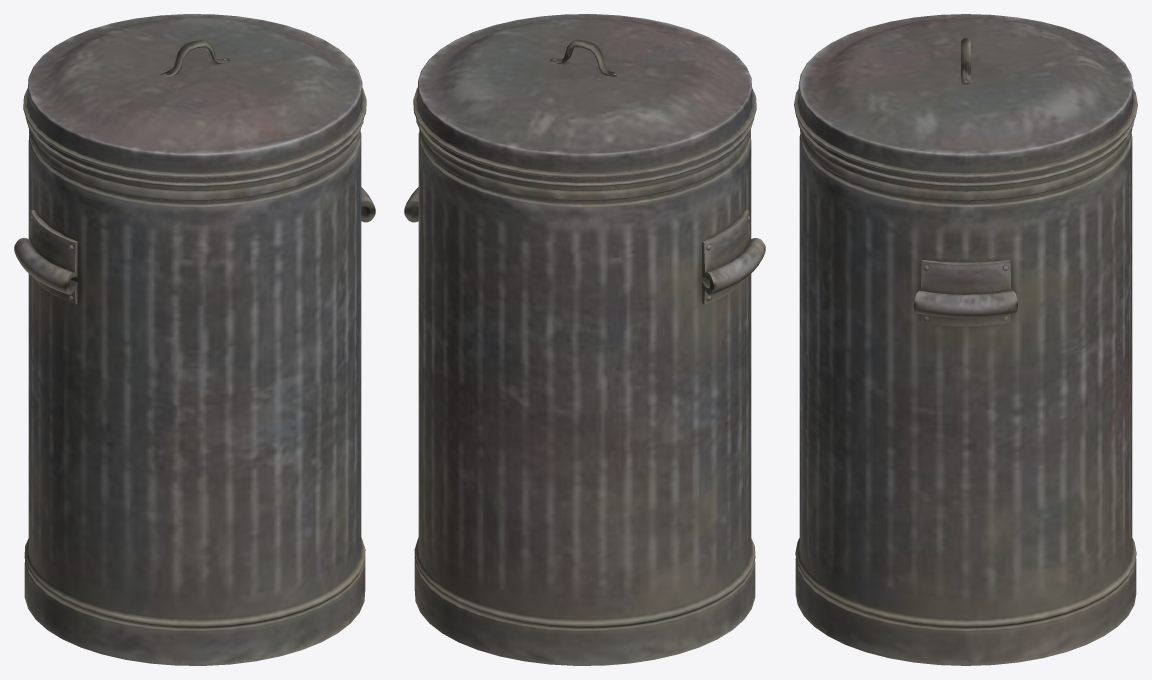
The model's file is trash_can.glb.
The picture shows the model from 3 angles, left to right: view 1: azimuth 30°, elevation 25°; view 2: azimuth 150°, elevation 25°; view 3: azimuth 270°, elevation 25°; orthographic projection.
Visible parts, largest first — view 1: metal_trash_can, metal_trash_can_lid; view 2: metal_trash_can, metal_trash_can_lid; view 3: metal_trash_can, metal_trash_can_lid.
Boxes of the visible parts, box(x1,y1,x2,y2) form: metal_trash_can: box(14, 117, 375, 665); metal_trash_can_lid: box(23, 14, 366, 178); metal_trash_can: box(404, 118, 765, 665); metal_trash_can_lid: box(413, 14, 756, 178); metal_trash_can: box(795, 119, 1136, 665); metal_trash_can_lid: box(794, 14, 1137, 178).
Size of the model in its own units: 0.6134 by 0.9856 by 0.5563.
1 material, 1 textured.
